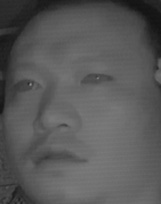eye: (80, 67, 115, 89), (12, 73, 44, 95)
mouth: (29, 139, 89, 172)
